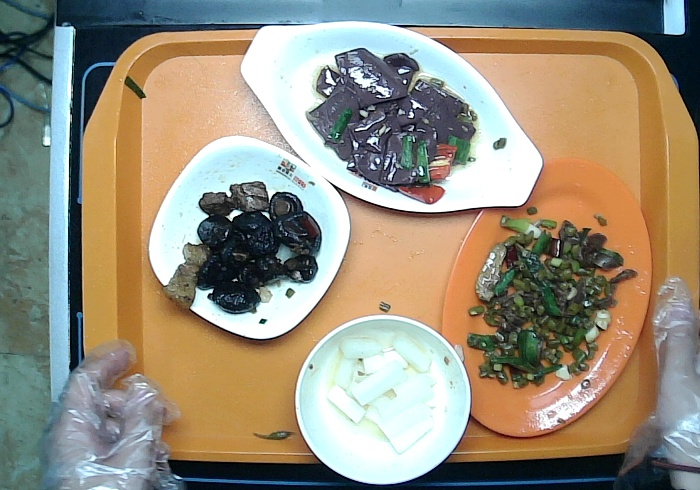NLDX-Bai_Se_Xiao_Fang_Die: (145, 132, 353, 340)
NLDX-Fan_Wan: (293, 312, 474, 486)
NLDX-Ju_Se_Pan: (439, 155, 655, 440)
NLDX-Yu_Pan: (239, 19, 545, 214)
